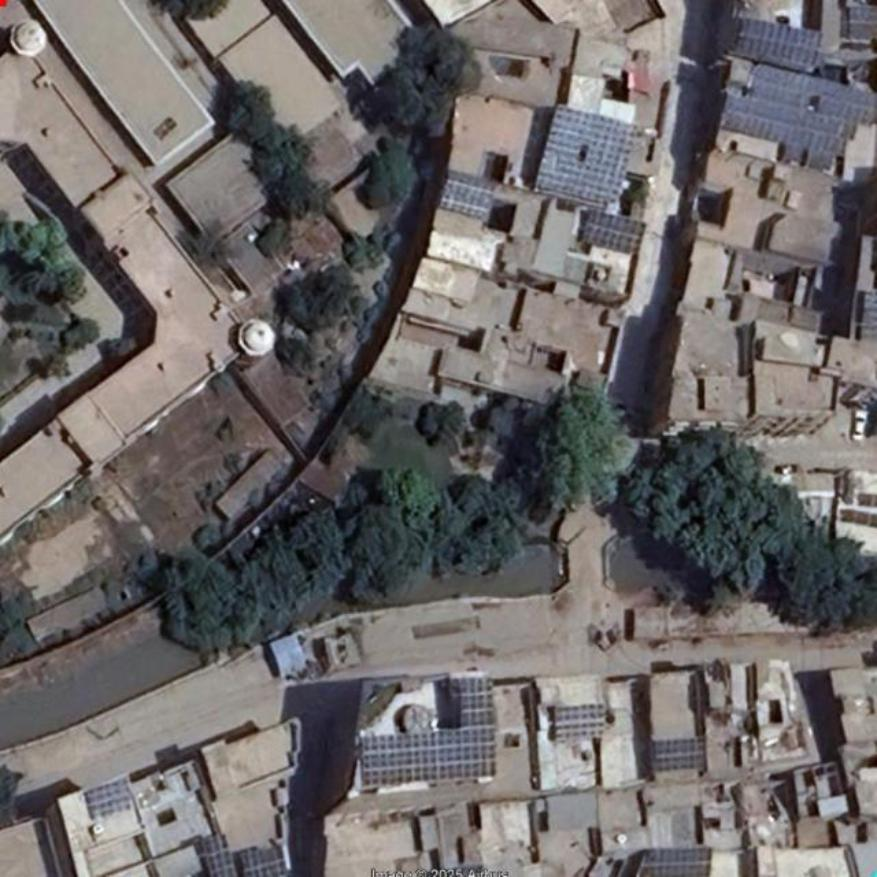Solarpanel: (358, 678, 495, 789), (533, 104, 640, 205), (749, 63, 876, 128), (723, 94, 859, 154), (731, 17, 824, 64), (580, 209, 646, 257), (440, 178, 496, 220), (637, 847, 713, 876), (553, 701, 605, 743), (85, 779, 132, 824), (651, 737, 710, 772), (196, 832, 238, 876), (242, 841, 289, 876), (861, 291, 876, 342)
